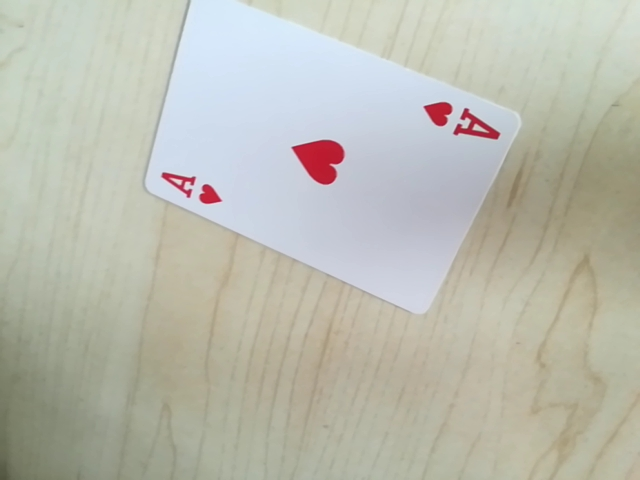hx a: (415, 95, 508, 149), (155, 162, 229, 208)
